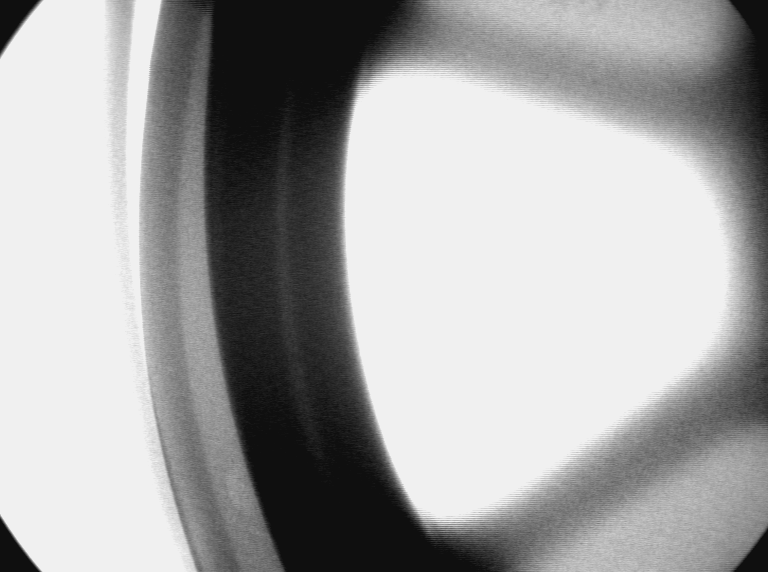defect: (224, 466, 266, 520)
